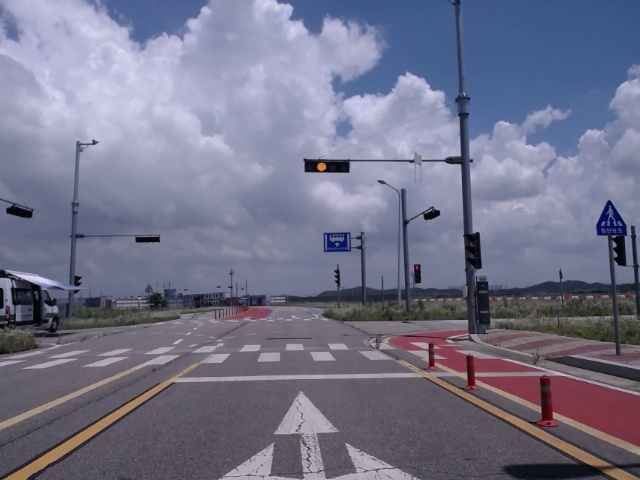orange_4: (304, 158, 349, 174)
